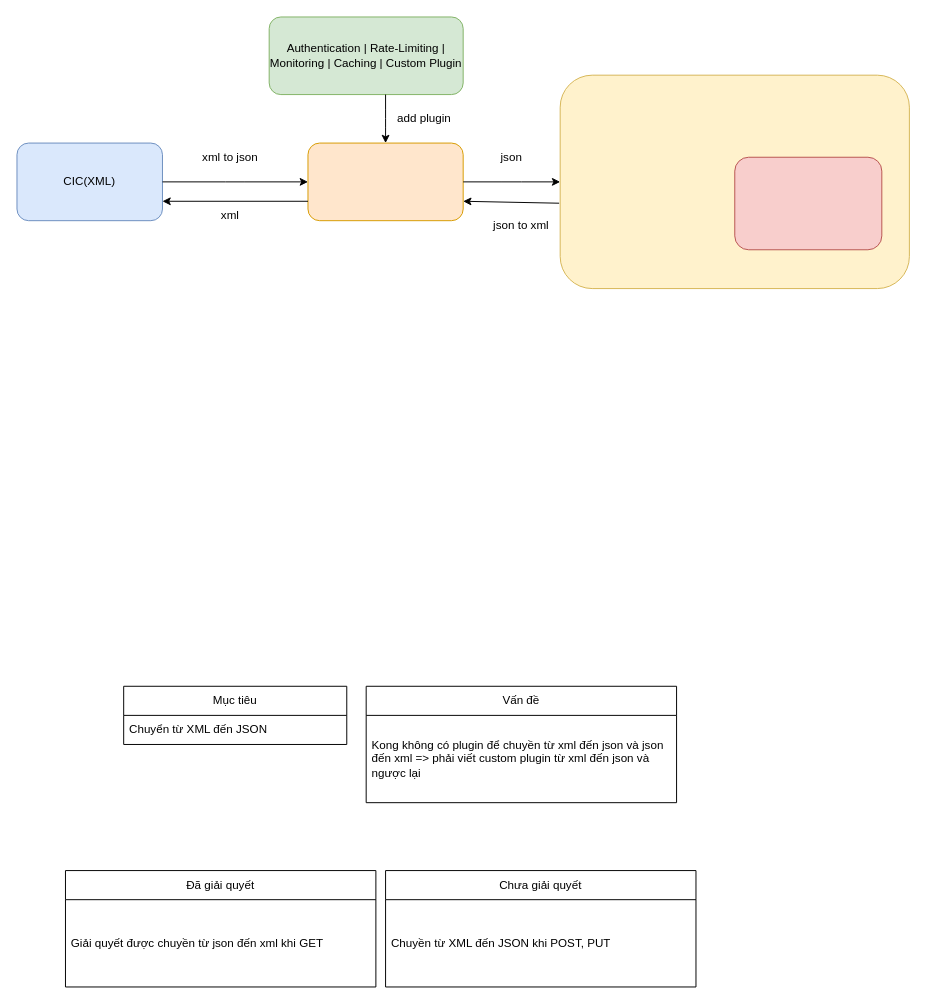
This 926x1004 diagram has some shape labels left out. Here are the shapes that lost their labels. From the top down, the centre of each, then its label:
the point at 385,181: KONG (API Gateway) localhost:8000
the point at 808,203: BE(JSON) NestJS localhost:3000 /customer/info
